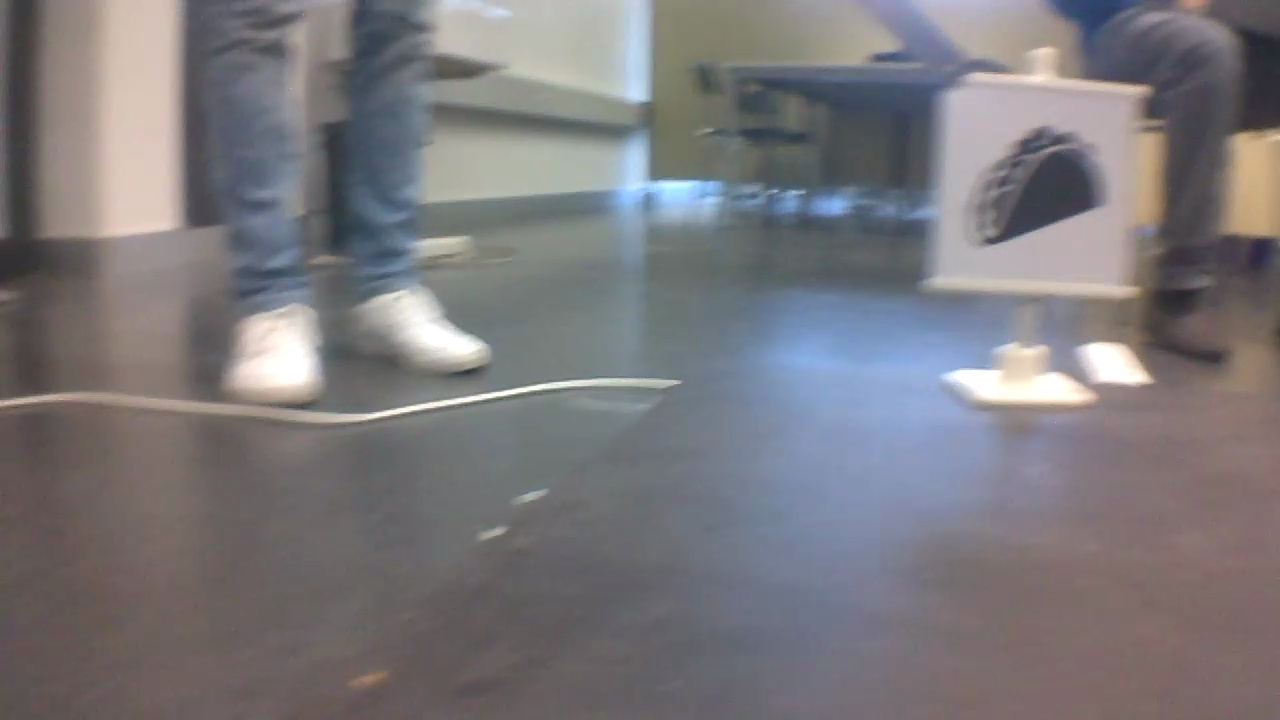taco: (951, 118, 1118, 252)
